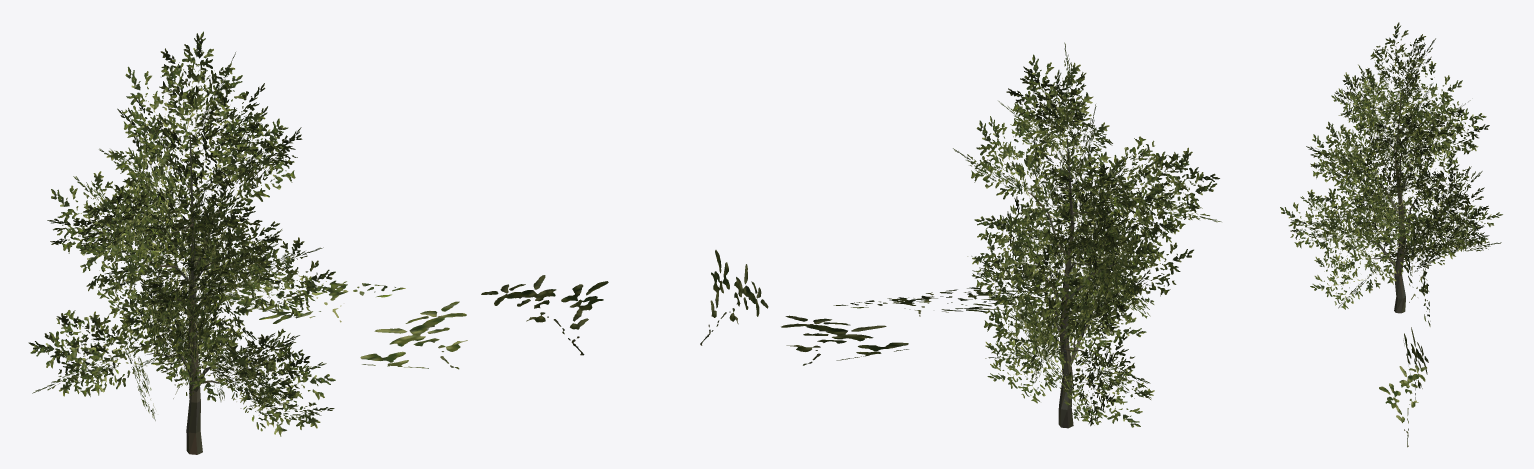
The model's file is laubbaum_09.glb.
3 renders of one model, left to right at view 1: azimuth 30°, elevation 25°; view 2: azimuth 150°, elevation 25°; view 3: azimuth 270°, elevation 25°, orthographic. The views are drawn at different scales.
Visible parts, largest first — view 1: laub, rinde; view 2: laub, rinde; view 3: laub, rinde.
Part boxes in pixels (x1,y1,x2,y2): laub: [28, 31, 608, 436]; rinde: [141, 131, 232, 454]; laub: [700, 42, 1221, 427]; rinde: [1026, 136, 1127, 428]; laub: [1280, 22, 1502, 447]; rinde: [1360, 89, 1421, 313].
Size of the model in its own units: 10.85 by 7.8 by 5.83.
2 materials, 1 textured.
